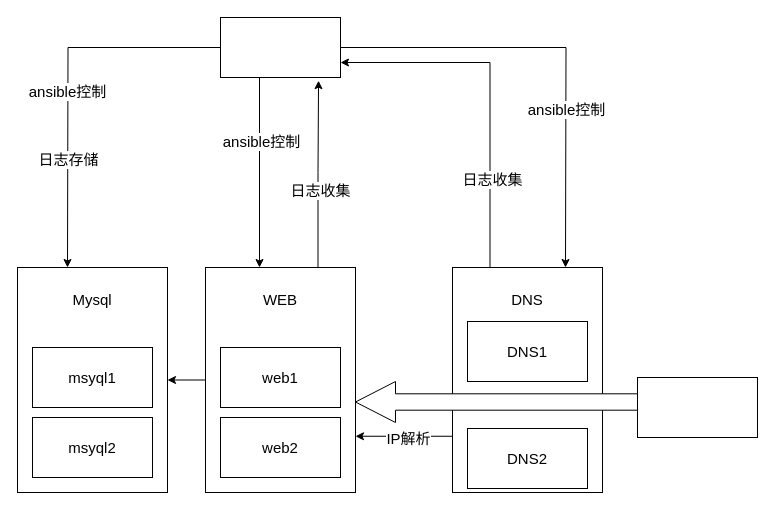
This 775x510 diagram has some shape labels left out. Here are the shapes that lost their labels. From the top down, the centre of each, then its label:
the point at 280,47: ansible-rsyslog
the point at 496,401: 通过DNS将域名解析到IP
the point at 697,407: Client
